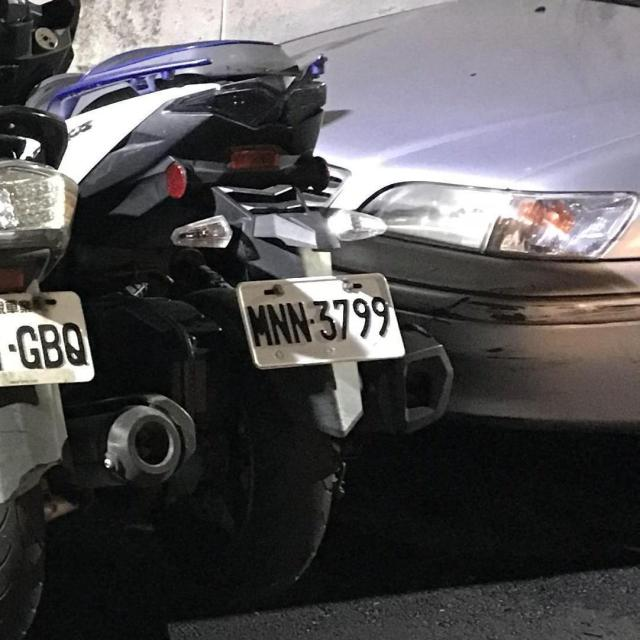W: (231, 262, 408, 376), (0, 276, 98, 402)
